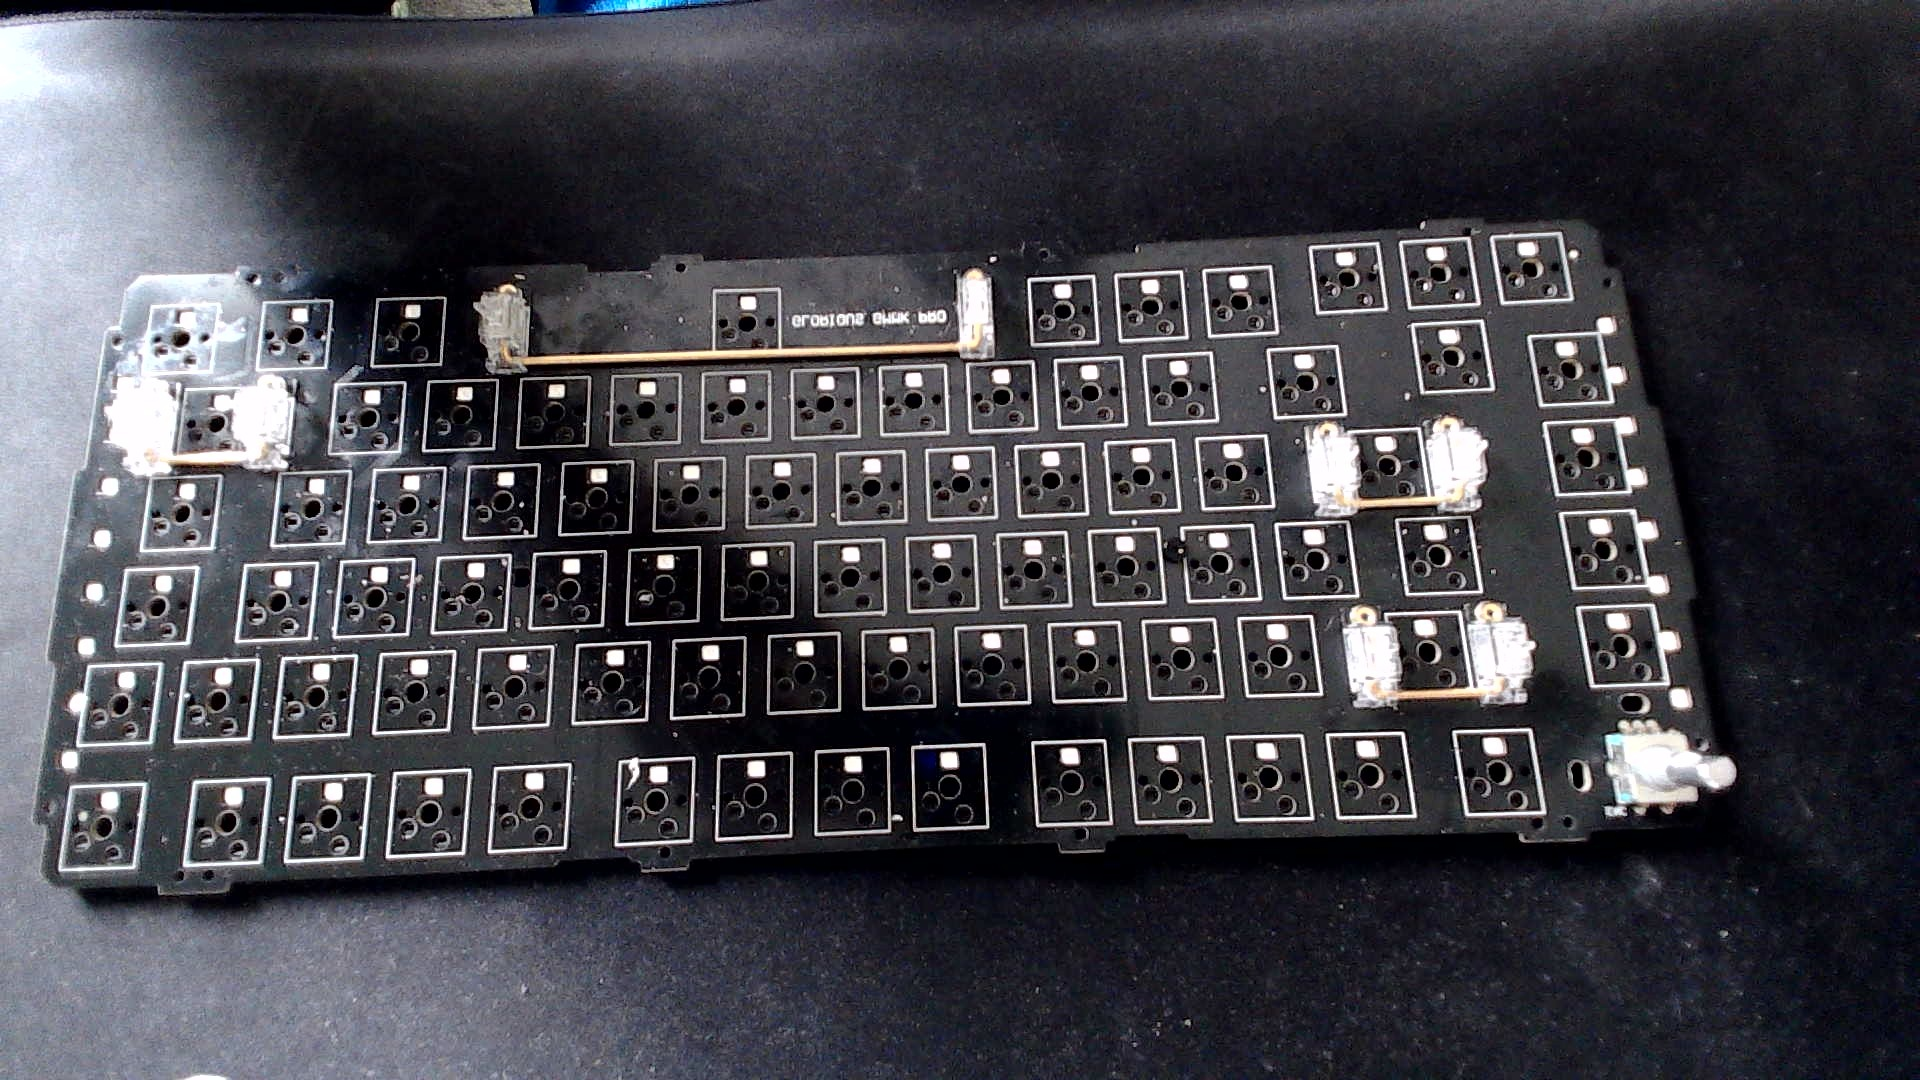pcb: (12, 181, 1772, 935)
